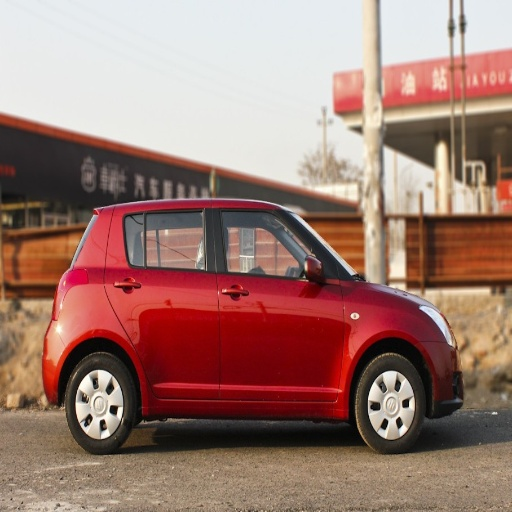back_right_door: (108, 203, 219, 399)
front_right_door: (214, 204, 346, 401)
